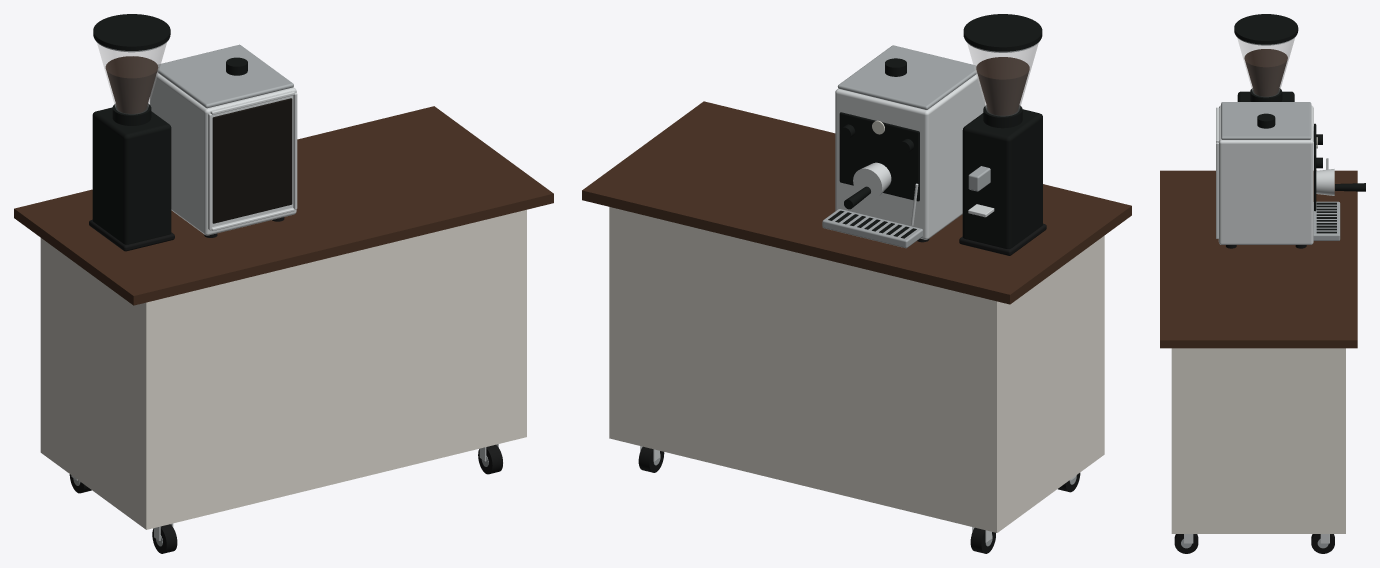
Rendered from eywa-bar-v2.glb.
3 renders of one model, left to right at view 1: azimuth 30°, elevation 25°; view 2: azimuth 150°, elevation 25°; view 3: azimuth 270°, elevation 25°, orthographic. The views are drawn at different scales.
Parts seen in each view (by area): view 1: BAR_FRONT, COUNTERTOP, BAR_LEFT, GRINDER_BODY, MACHINE_BACK_INSET, ESPRESSO_MACHINE, MACHINE_TOP, GRINDER_HOPPER, GRINDER_LID, HOPPER_BEANS; view 2: BODY, COUNTERTOP, BAR_LEFT, ESPRESSO_MACHINE, GRINDER_BODY, MACHINE_TOP, MACHINE_CONTROL_PANEL, GRINDER_HOPPER, GRINDER_LID, HOPPER_BEANS, DRIP_TRAY, GROUPHEAD; view 3: BAR_RIGHT, COUNTERTOP, ESPRESSO_MACHINE, MACHINE_TOP, GRINDER_HOPPER, GRINDER_LID, HOPPER_BEANS, DRIP_TRAY, WHEELS (×2), GROUPHEAD, MACHINE_BACK_RAIL, GRINDER_BODY (+1 smaller).
Part boxes in pixels (x1,y1,x2,y2): BAR_FRONT: [146, 209, 526, 529]; COUNTERTOP: [14, 106, 553, 305]; BAR_LEFT: [40, 238, 146, 529]; GRINDER_BODY: [92, 107, 171, 244]; MACHINE_BACK_INSET: [212, 98, 292, 223]; ESPRESSO_MACHINE: [150, 72, 296, 235]; MACHINE_TOP: [157, 44, 293, 108]; GRINDER_HOPPER: [97, 43, 166, 114]; GRINDER_LID: [93, 14, 170, 50]; HOPPER_BEANS: [105, 56, 158, 113]; BODY: [609, 207, 997, 532]; COUNTERTOP: [582, 101, 1131, 304]; BAR_LEFT: [997, 235, 1104, 532]; ESPRESSO_MACHINE: [835, 74, 984, 239]; GRINDER_BODY: [962, 109, 1042, 248]; MACHINE_TOP: [837, 45, 976, 109]; MACHINE_CONTROL_PANEL: [839, 112, 919, 201]; GRINDER_HOPPER: [967, 43, 1038, 116]; GRINDER_LID: [963, 14, 1042, 51]; HOPPER_BEANS: [976, 57, 1029, 115]; DRIP_TRAY: [822, 209, 922, 248]; GROUPHEAD: [853, 162, 891, 199]; BAR_RIGHT: [1171, 348, 1345, 533]; COUNTERTOP: [1160, 170, 1357, 348]; ESPRESSO_MACHINE: [1218, 105, 1313, 244]; MACHINE_TOP: [1221, 102, 1311, 139]; GRINDER_HOPPER: [1237, 38, 1294, 96]; GRINDER_LID: [1234, 14, 1298, 44]; HOPPER_BEANS: [1244, 49, 1287, 96]; DRIP_TRAY: [1313, 201, 1340, 240]; WHEELS (×2): [1174, 534, 1334, 553]; GROUPHEAD: [1316, 169, 1334, 195]; MACHINE_BACK_RAIL: [1216, 142, 1218, 238]; GRINDER_BODY: [1237, 91, 1294, 101].
Bounding box in the file's own units: 1.38 × 1.51 × 0.708.
